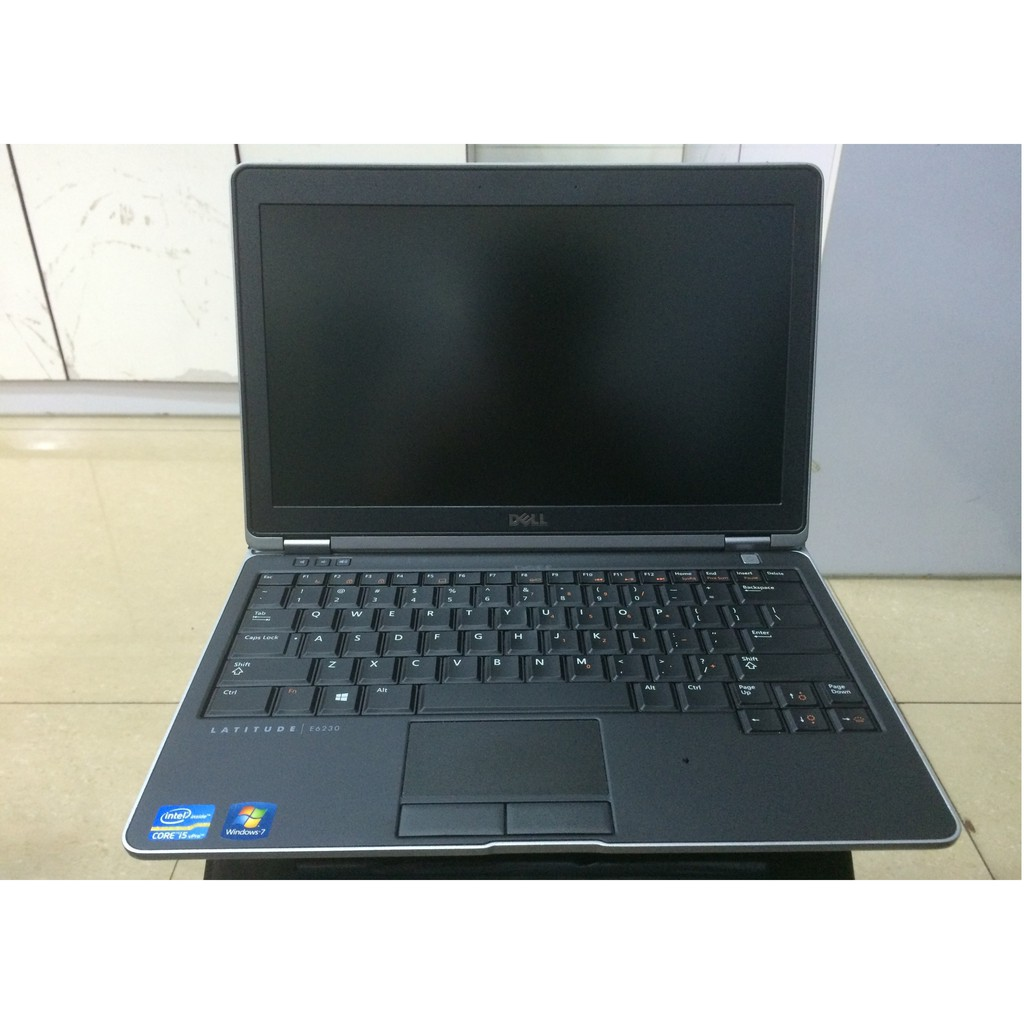Laptop: (101, 152, 974, 866)
